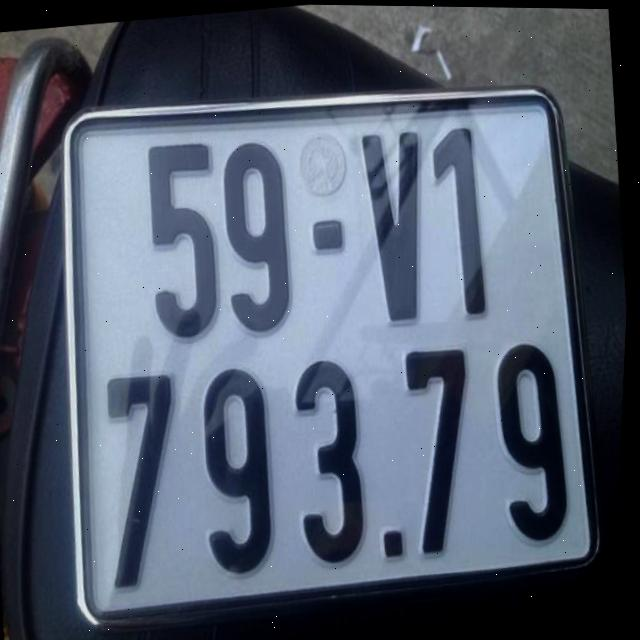plate: (26, 56, 628, 629)
